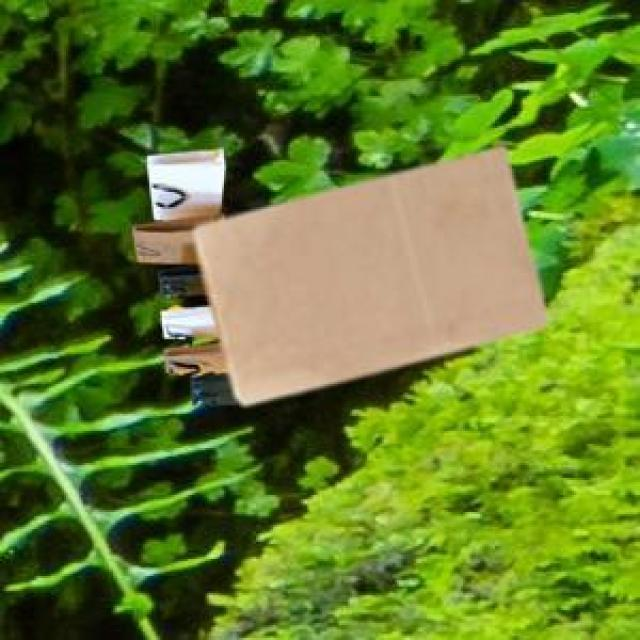paper: (192, 143, 544, 401), (130, 145, 233, 401)
